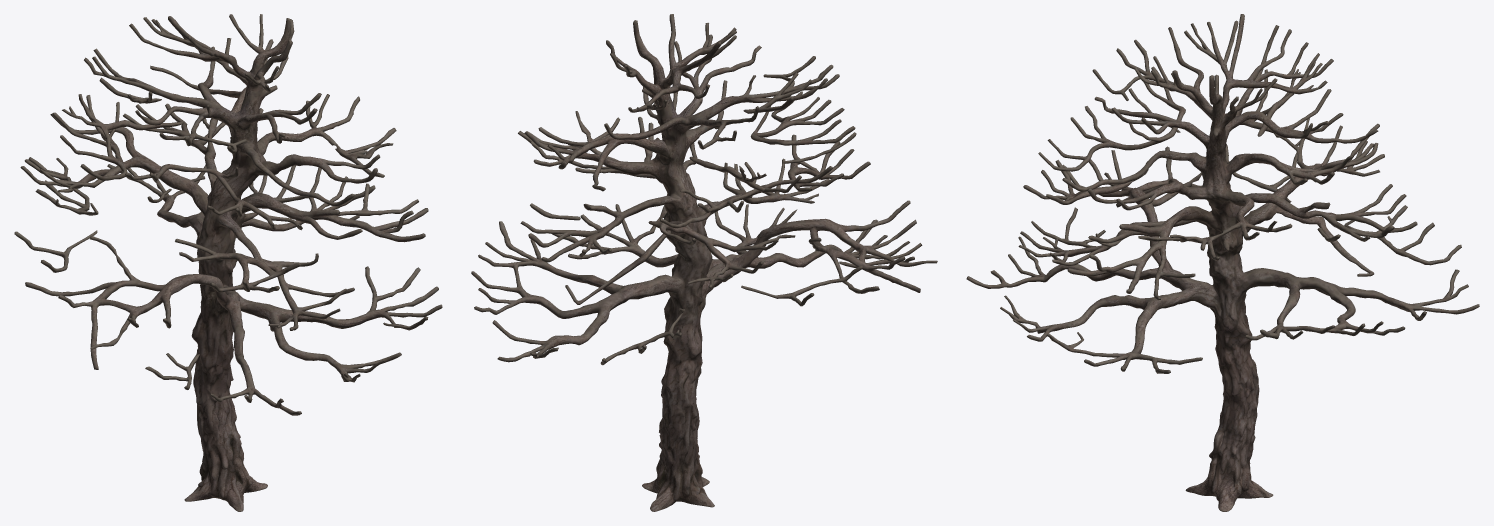
3 views of the same model, side by side, from view 1: azimuth 30°, elevation 25°; view 2: azimuth 150°, elevation 25°; view 3: azimuth 270°, elevation 25° (orthographic). The views are drawn at different scales.
Parts seen in each view (by area): view 1: tripo_node_88c81ea2-9f70-46a3-a795-4bea797e20eb; view 2: tripo_node_88c81ea2-9f70-46a3-a795-4bea797e20eb; view 3: tripo_node_88c81ea2-9f70-46a3-a795-4bea797e20eb.
Part boxes in pixels (left/top/right/bottom): tripo_node_88c81ea2-9f70-46a3-a795-4bea797e20eb: left=14, top=14, right=442, bottom=511; tripo_node_88c81ea2-9f70-46a3-a795-4bea797e20eb: left=471, top=14, right=937, bottom=511; tripo_node_88c81ea2-9f70-46a3-a795-4bea797e20eb: left=966, top=14, right=1479, bottom=511.
Size of the model in its own units: 0.787 by 0.9839 by 1.
Materials: 1 (1 with a texture image).
